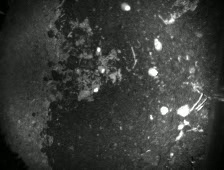corn: (152, 37, 164, 54), (146, 66, 160, 78), (119, 1, 132, 13), (95, 63, 108, 75), (91, 82, 103, 94), (93, 46, 103, 56)
